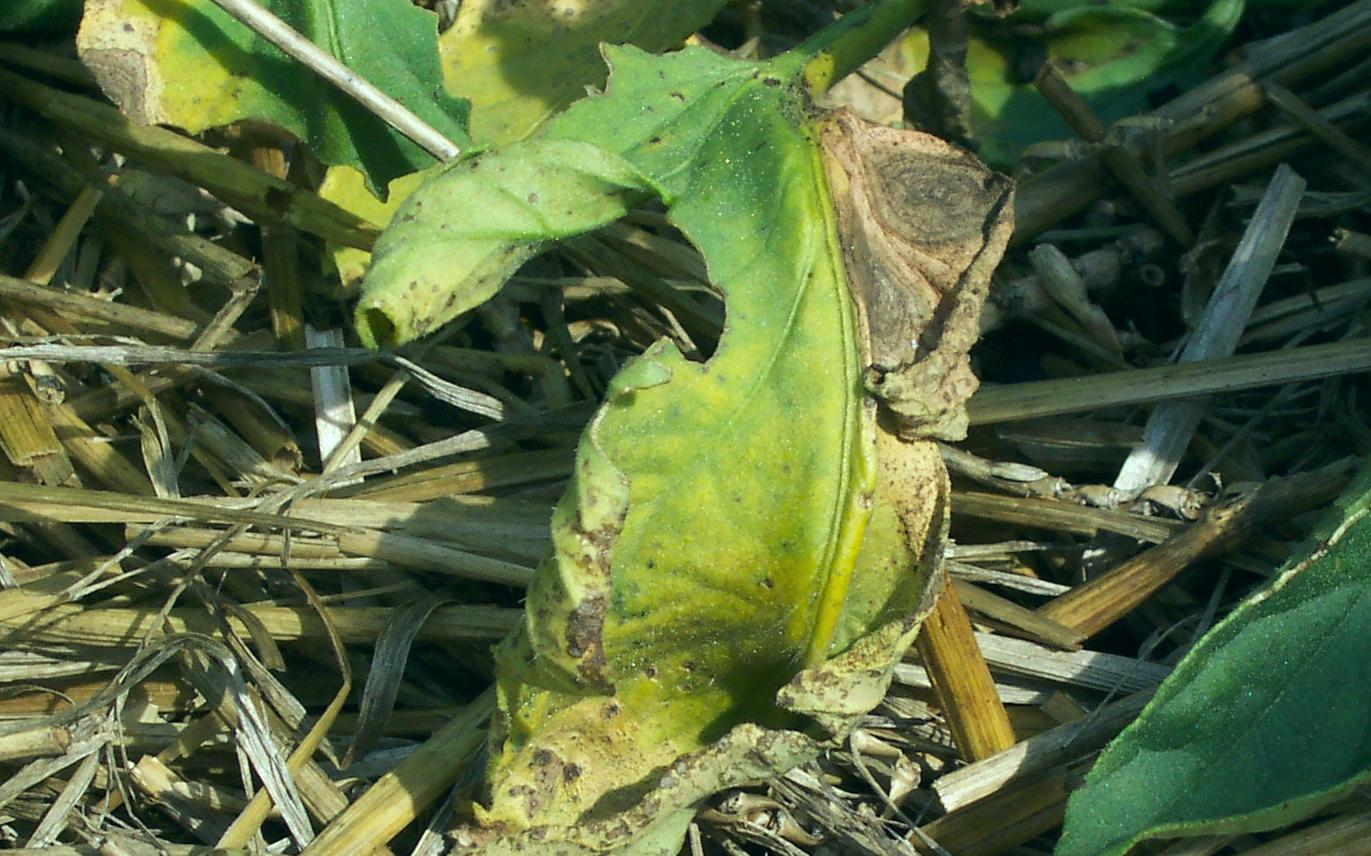Tomato Early blight leaf: (211, 0, 1047, 856)
